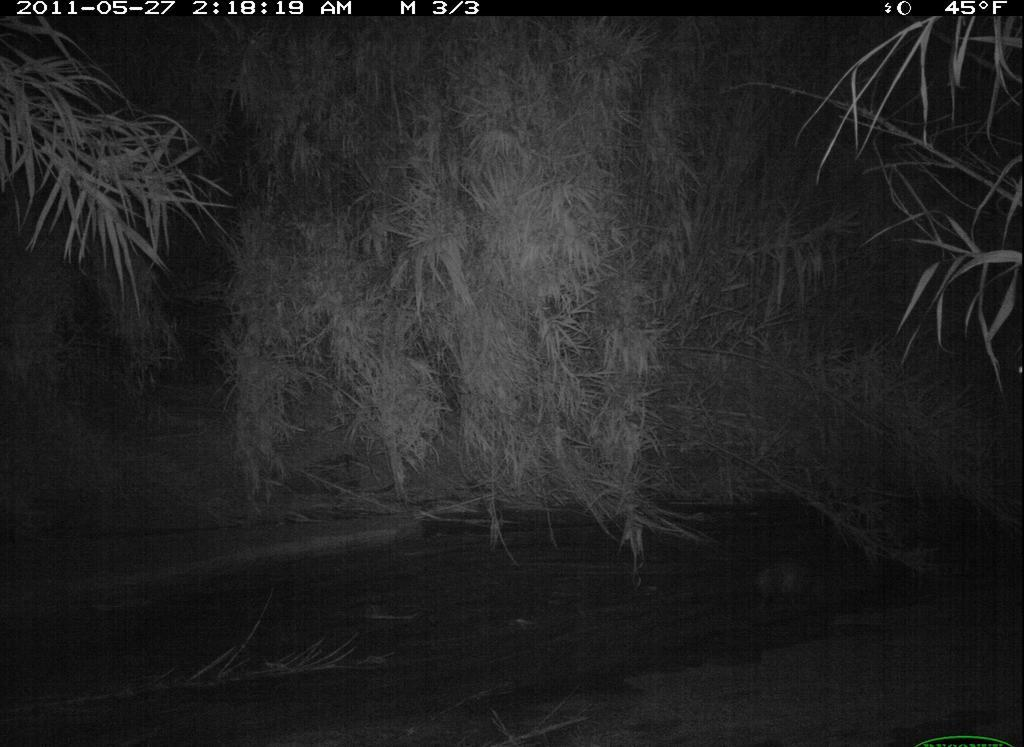opossum: (735, 556, 861, 611)
